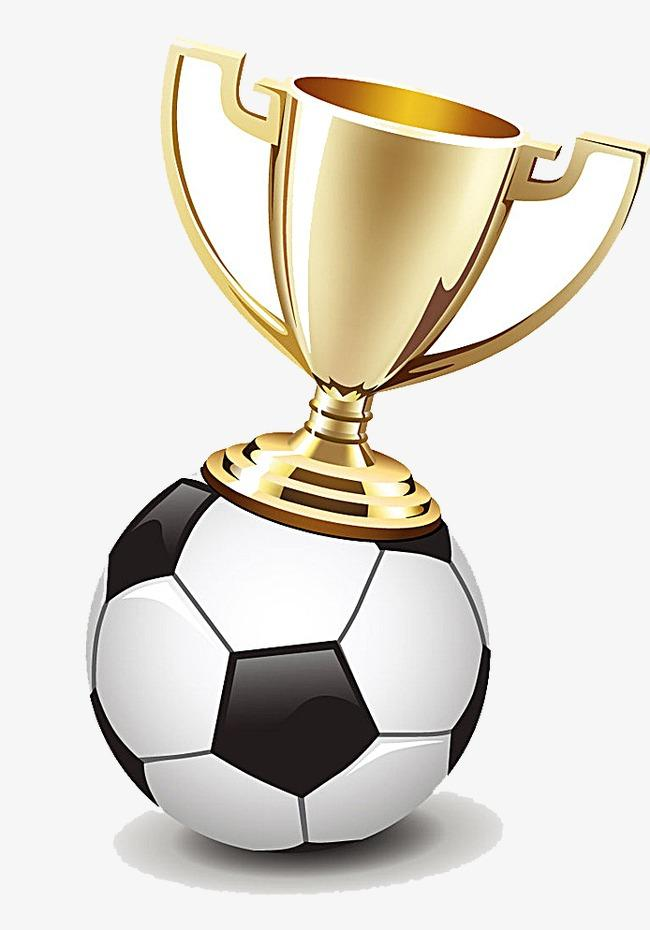football: (75, 448, 492, 855)
